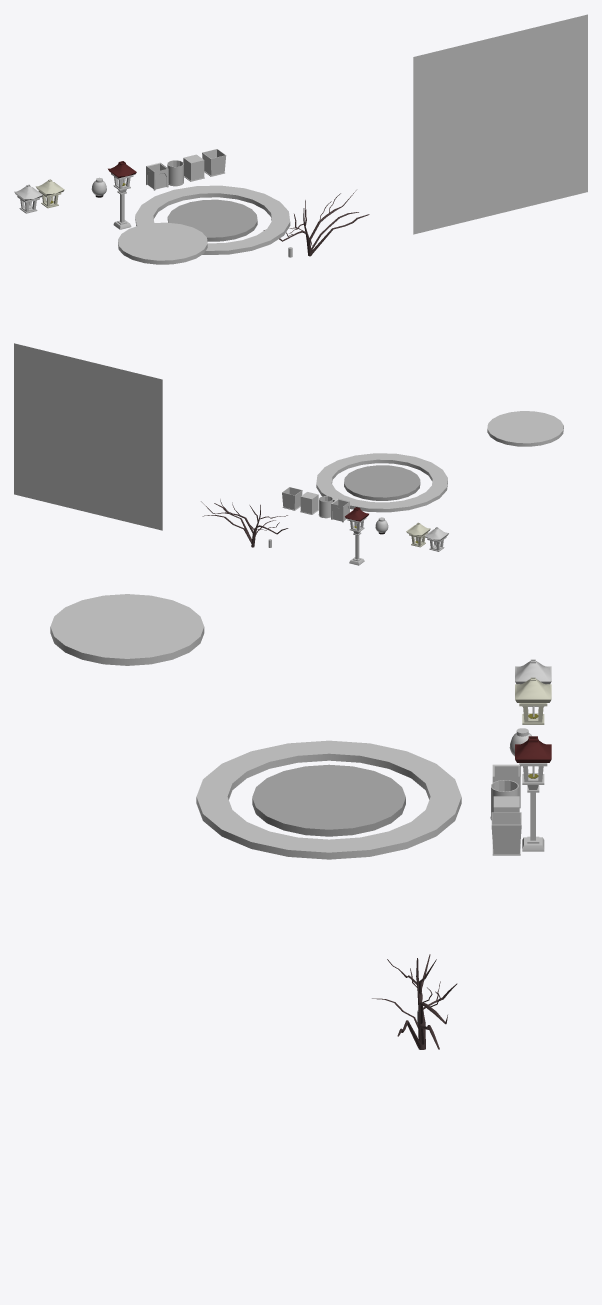
File: test_stage.fbx
3 renders of one model, top to bottom at view 1: azimuth 30°, elevation 25°; view 2: azimuth 150°, elevation 25°; view 3: azimuth 270°, elevation 25°, orthographic. The views are drawn at different scales.
Visible parts, largest first — view 1: pPlane2, pCylinder21, pCylinder22, pCylinder20, pCube12, pCube16; view 2: pPlane2, pCylinder21, pCylinder22, pCylinder20, pCube16, pCube12, pCube13; view 3: pCylinder21, pCylinder22, pCylinder20, pCube16.
Boxes of the visible parts, x1,y1,x2,y2 form: pPlane2: [413, 14, 587, 234]; pCylinder21: [135, 185, 290, 254]; pCylinder22: [118, 222, 207, 264]; pCylinder20: [167, 199, 257, 241]; pCube12: [146, 162, 168, 190]; pCube16: [202, 149, 226, 175]; pPlane2: [14, 343, 162, 530]; pCylinder21: [316, 453, 447, 512]; pCylinder22: [487, 411, 563, 446]; pCylinder20: [344, 465, 420, 500]; pCube16: [282, 487, 302, 509]; pCube12: [331, 498, 349, 522]; pCube13: [300, 492, 318, 513]; pCylinder21: [196, 740, 461, 859]; pCylinder22: [50, 594, 204, 665]; pCylinder20: [252, 764, 405, 836]; pCube16: [491, 812, 521, 853].
Bounding box in the file's own units: 296 × 86.75 × 130.
